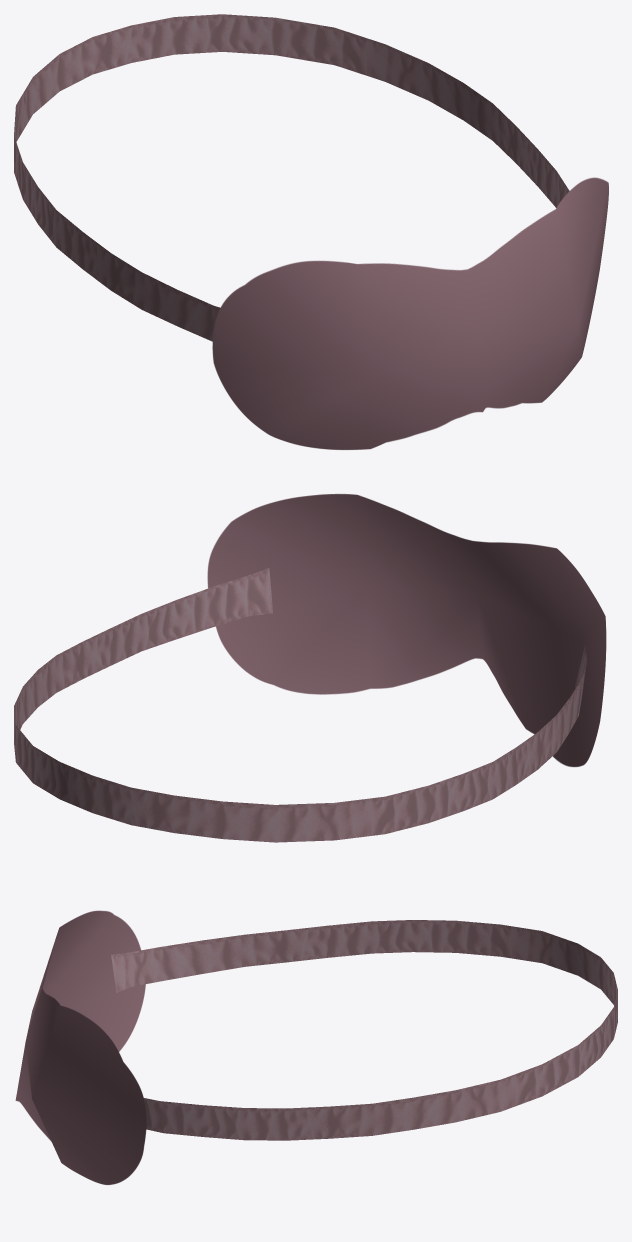
The picture shows the model from 3 angles, top to bottom: view 1: azimuth 30°, elevation 25°; view 2: azimuth 150°, elevation 25°; view 3: azimuth 270°, elevation 25°; orthographic projection. The views are drawn at different scales.
Visible parts, largest first — view 1: Mask Lower Fix_84, Strap Low_83; view 2: Mask Lower Fix_84, Strap Low_83; view 3: Strap Low_83, Mask Lower Fix_84.
Part boxes in pixels (x1=…): Mask Lower Fix_84: x1=212, y1=177, x2=608, y2=449; Strap Low_83: x1=14, y1=14, x2=569, y2=341; Mask Lower Fix_84: x1=207, y1=494, x2=606, y2=767; Strap Low_83: x1=14, y1=568, x2=587, y2=842; Strap Low_83: x1=111, y1=920, x2=617, y2=1140; Mask Lower Fix_84: x1=15, y1=910, x2=146, y2=1184.
Bounding box in the file's own units: 0.1555 × 0.0775 × 0.2176.
2 materials, 2 textured.
